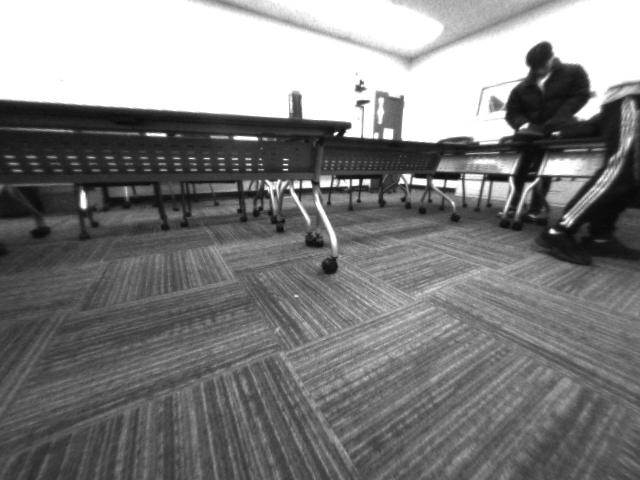can: (285, 86, 308, 119)
